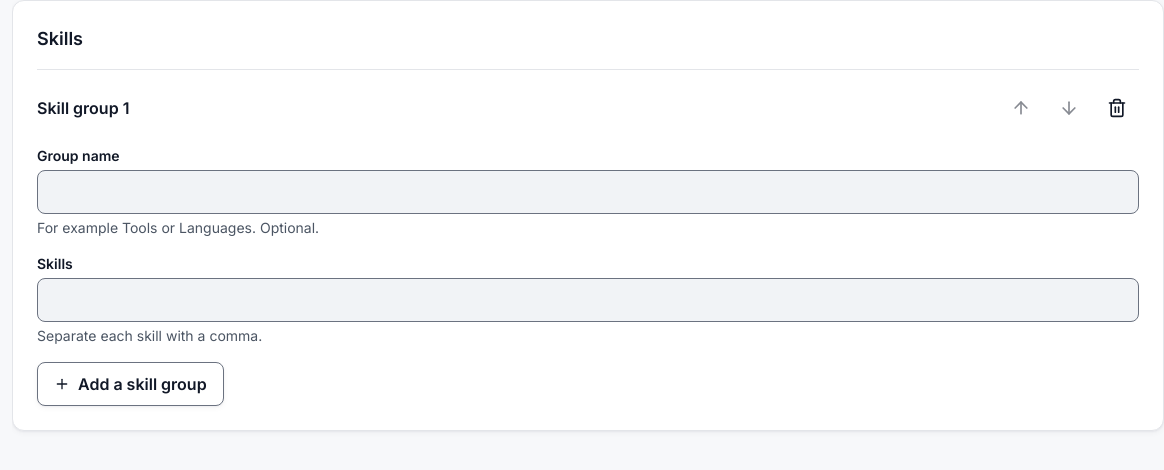
Test: section editor entries › keeps a typed comma in a skill group
Type "Excel, " into the field labelled "Skills".
click(588, 300); type("Excel, ")  # box [37,278,1139,322]
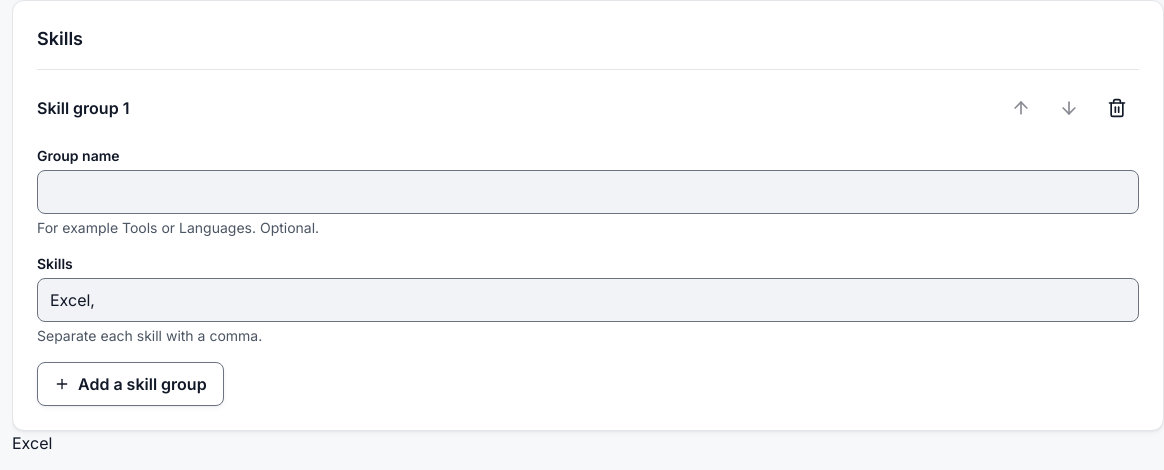
Result: the text with test id "skills" reads "Excel" at [12,433,52,453]
